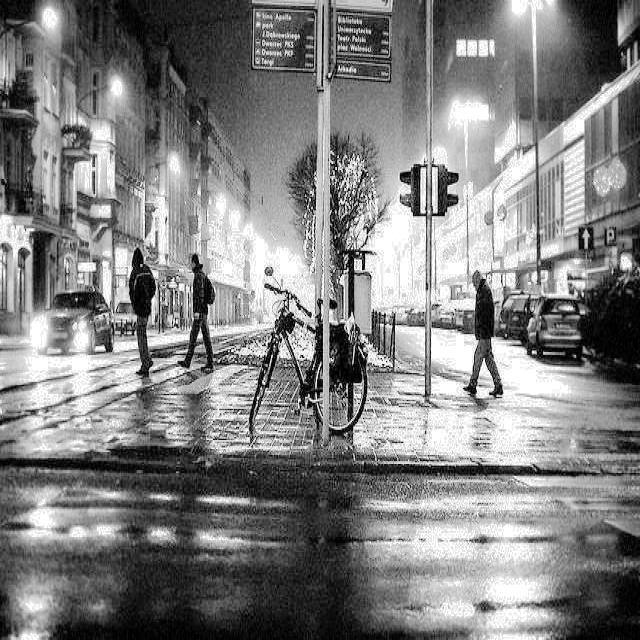Bicycle: (230, 281, 372, 455)
Car: (30, 265, 133, 383), (523, 272, 596, 388)
Person: (427, 232, 506, 435), (127, 219, 158, 391), (182, 239, 222, 371)
